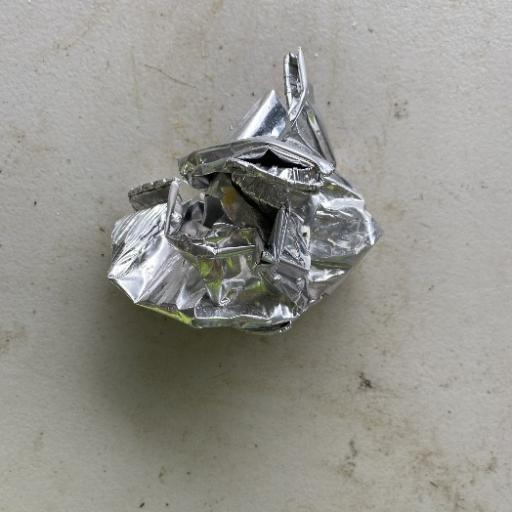Metal: (105, 46, 383, 337)
